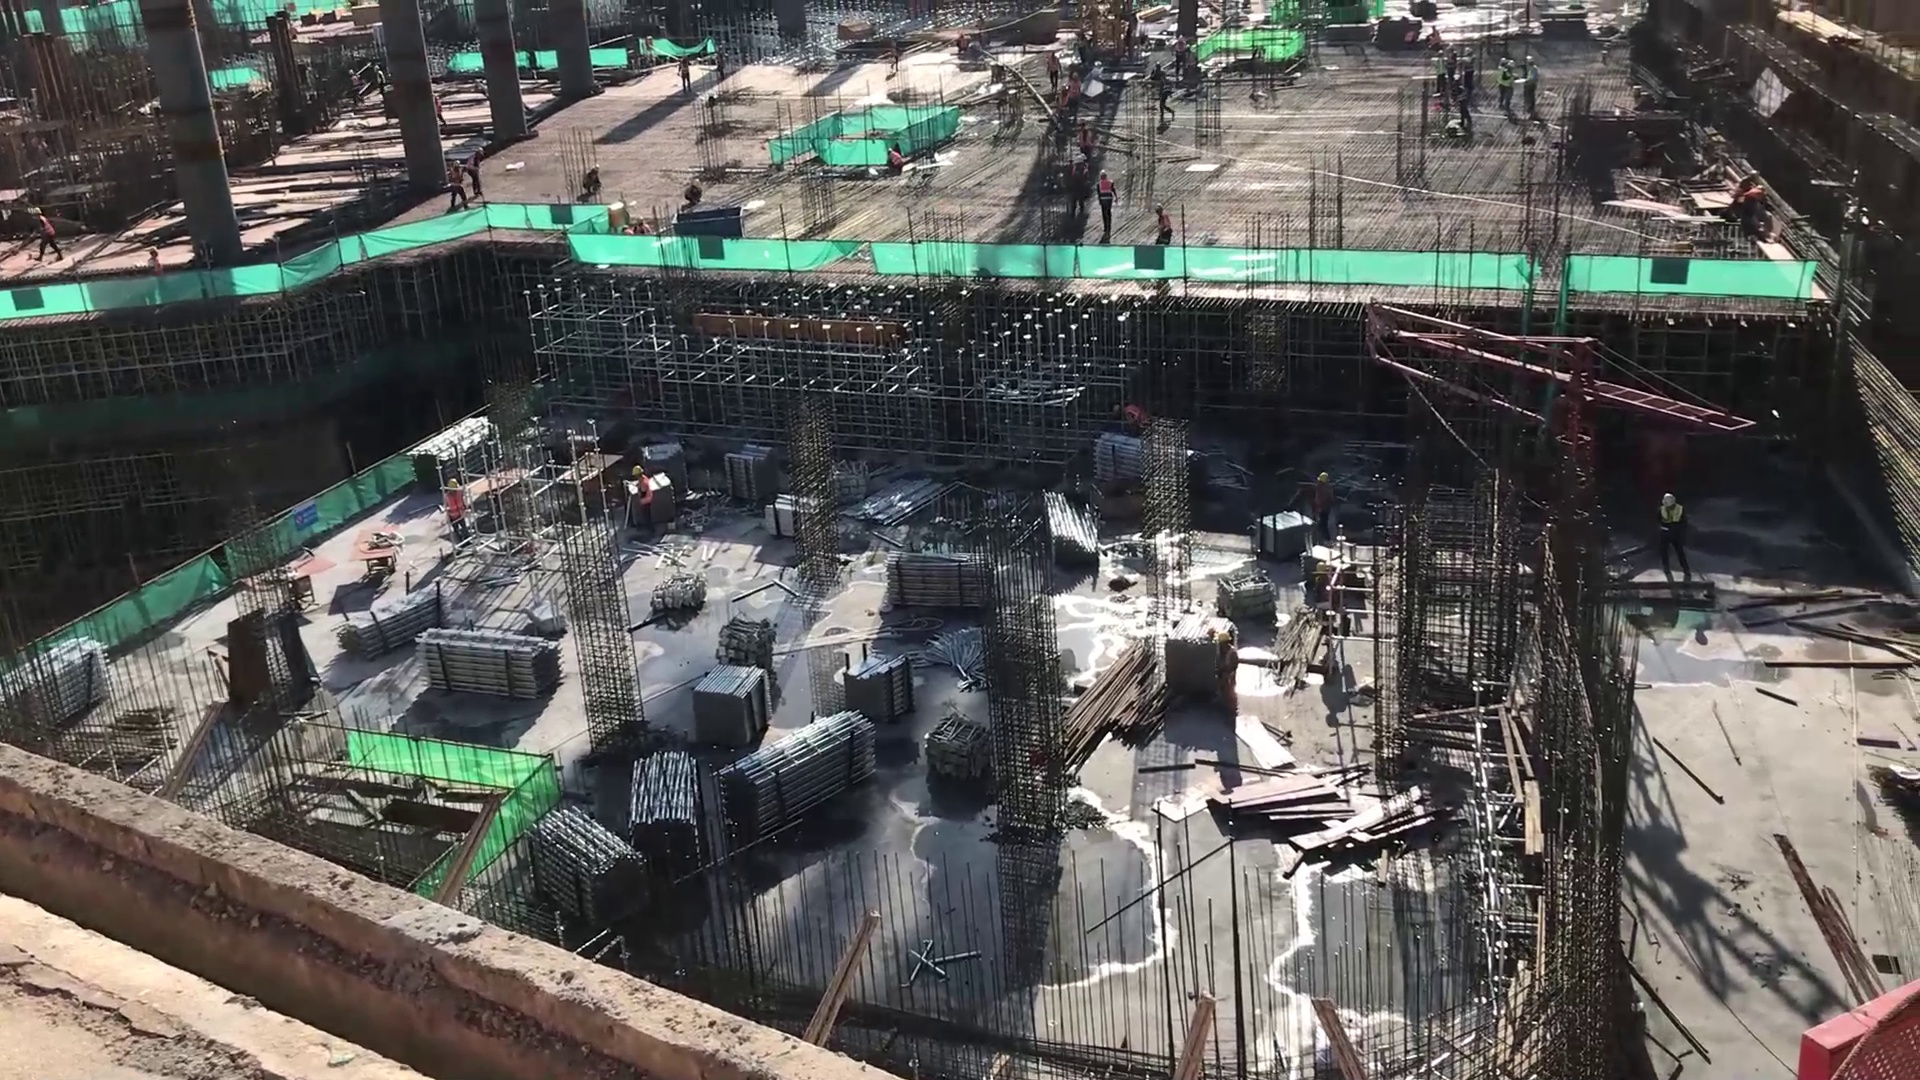helmet: (625, 462, 645, 484), (444, 471, 462, 494), (1091, 167, 1111, 184), (1148, 198, 1165, 217), (587, 158, 602, 175), (1658, 490, 1675, 507), (1523, 51, 1537, 70), (1501, 57, 1515, 69), (883, 148, 896, 161), (691, 176, 702, 189), (448, 155, 459, 166), (1435, 47, 1445, 58)
person: (1650, 491, 1695, 588), (439, 475, 477, 546), (1093, 168, 1122, 243), (631, 461, 655, 538), (440, 154, 471, 213), (1739, 179, 1773, 231), (1520, 51, 1545, 117), (1494, 51, 1517, 111), (1150, 201, 1173, 249), (673, 51, 698, 96), (1042, 46, 1063, 93), (1431, 43, 1448, 98), (1065, 67, 1081, 121), (581, 162, 605, 195), (681, 176, 704, 207), (883, 145, 905, 175)
vest: (1659, 504, 1689, 538), (442, 494, 466, 518), (32, 217, 58, 237), (1094, 181, 1115, 205), (1496, 72, 1516, 94), (633, 480, 649, 506), (1522, 68, 1536, 89), (447, 168, 463, 184), (1156, 216, 1171, 232), (1435, 59, 1445, 74)
